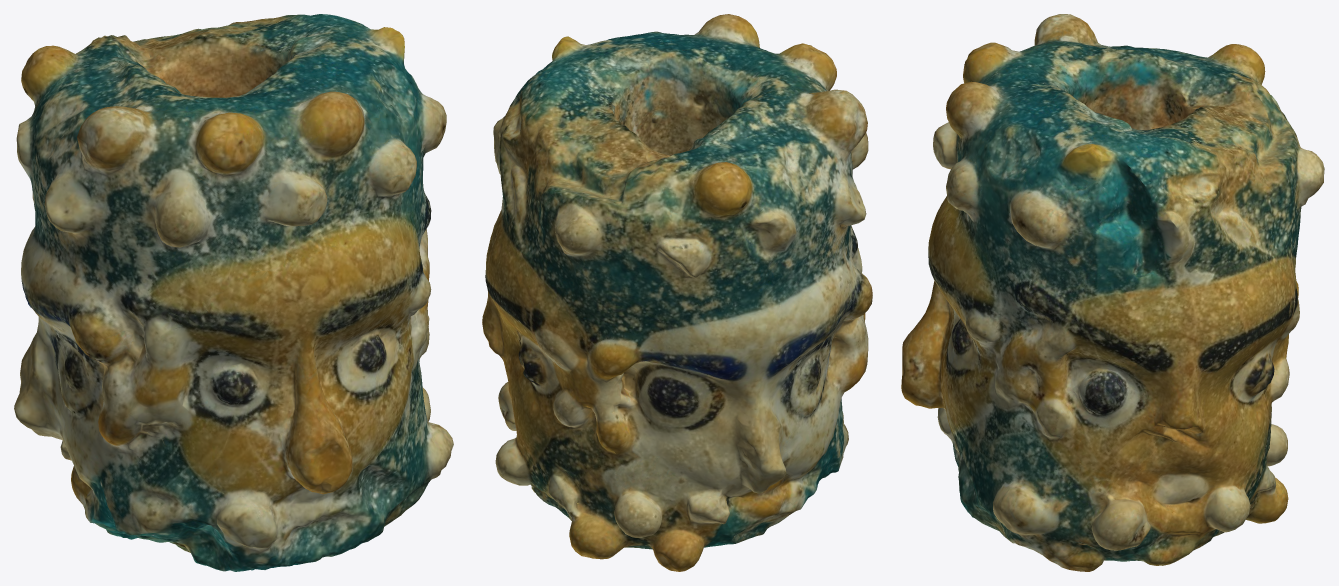
3 views of the same model, side by side, from view 1: azimuth 30°, elevation 25°; view 2: azimuth 150°, elevation 25°; view 3: azimuth 270°, elevation 25° (orthographic). The views are drawn at different scales.
Size of the model in its own units: 0.1036 by 0.1232 by 0.1064.
Materials: 1 (1 with a texture image).
